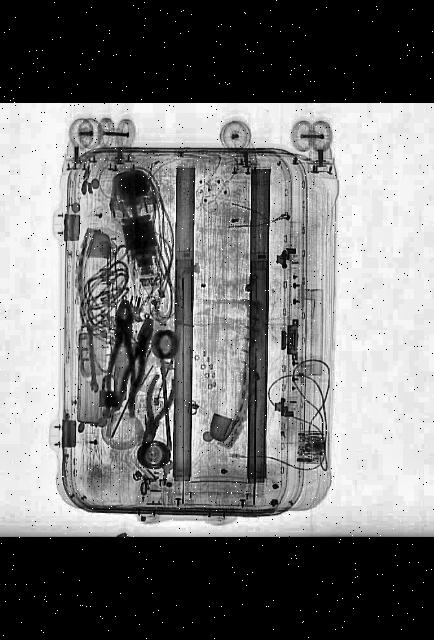Pliers: (110, 316, 164, 420), (131, 374, 179, 452), (106, 301, 136, 403)
